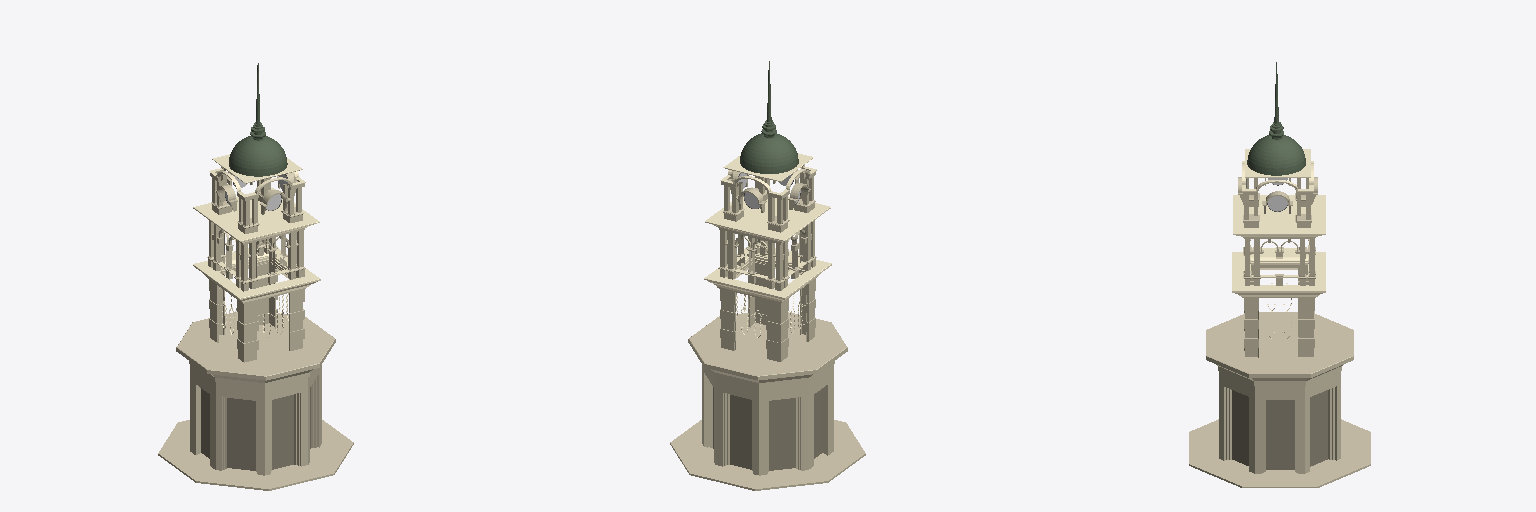
File: clocktower_obj.obj
3 renders of one model, left to right at view 1: azimuth 30°, elevation 25°; view 2: azimuth 150°, elevation 25°; view 3: azimuth 270°, elevation 25°, orthographic.
Visible parts, largest first — view 1: clock_tower_layer1; view 2: clock_tower_layer1; view 3: clock_tower_layer1.
Boxes of the visible parts, x1=… form: clock_tower_layer1: x1=158, y1=63, x2=353, y2=490; clock_tower_layer1: x1=670, y1=61, x2=865, y2=490; clock_tower_layer1: x1=1189, y1=62, x2=1370, y2=487.
Bounding box in the file's own units: 18.18 × 42.64 × 18.18.